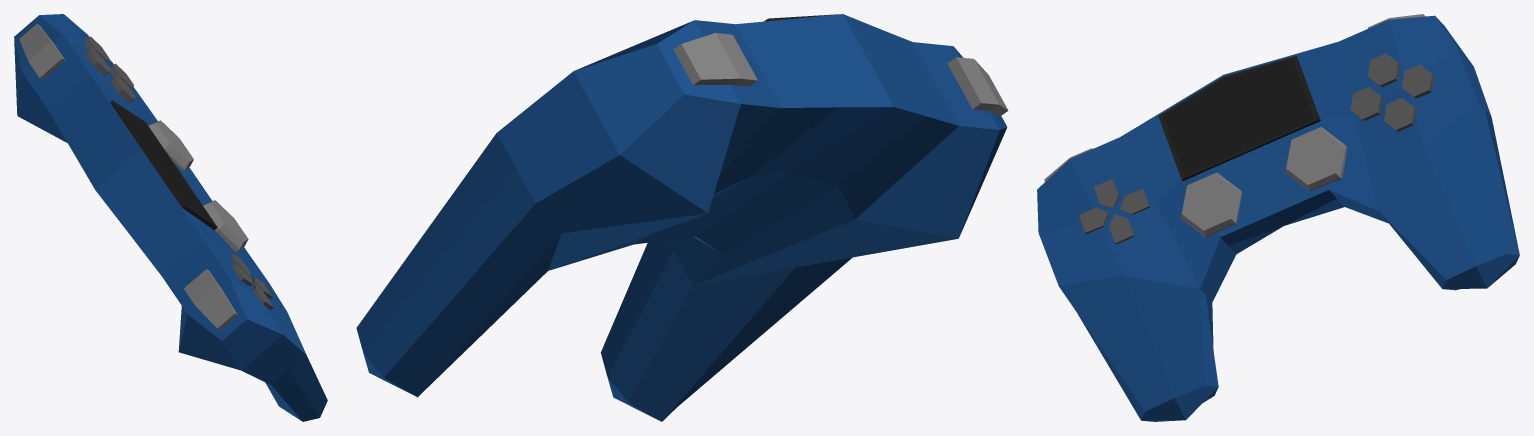
File: controller.glb
3 renders of one model, left to right at view 1: azimuth 30°, elevation 25°; view 2: azimuth 150°, elevation 25°; view 3: azimuth 270°, elevation 25°, orthographic. The views are drawn at different scales.
Parts seen in each view (by area): view 1: body, touchpad inner, L1, R1, left joystick, right joystick, touchpad, up, left; view 2: body, R1, L1; view 3: body, touchpad inner, right joystick, left joystick, touchpad, right, left, down, up, left.001, right.001, up.001 (+1 smaller).
Boxes of the visible parts, x1,y1,x2,y2 form: body: (14, 14, 327, 421); touchpad inner: (116, 104, 213, 222); L1: (183, 269, 237, 330); R1: (19, 24, 65, 79); left joystick: (203, 200, 248, 252); right joystick: (148, 120, 193, 170); touchpad: (110, 100, 217, 230); up: (85, 48, 110, 75); left: (110, 75, 135, 102); body: (356, 14, 1007, 421); R1: (673, 33, 757, 86); L1: (947, 57, 1008, 116); body: (1037, 15, 1519, 421); touchpad inner: (1163, 59, 1314, 175); right joystick: (1285, 127, 1347, 191); left joystick: (1181, 172, 1242, 237); touchpad: (1158, 56, 1320, 180); right: (1401, 64, 1434, 98); left: (1350, 87, 1382, 120); down: (1384, 98, 1416, 131); up: (1367, 53, 1399, 87); left.001: (1079, 207, 1109, 234); right.001: (1119, 188, 1149, 214); up.001: (1094, 179, 1119, 208).
Size of the model in its own units: 3.66 by 6.34 by 8.07.
